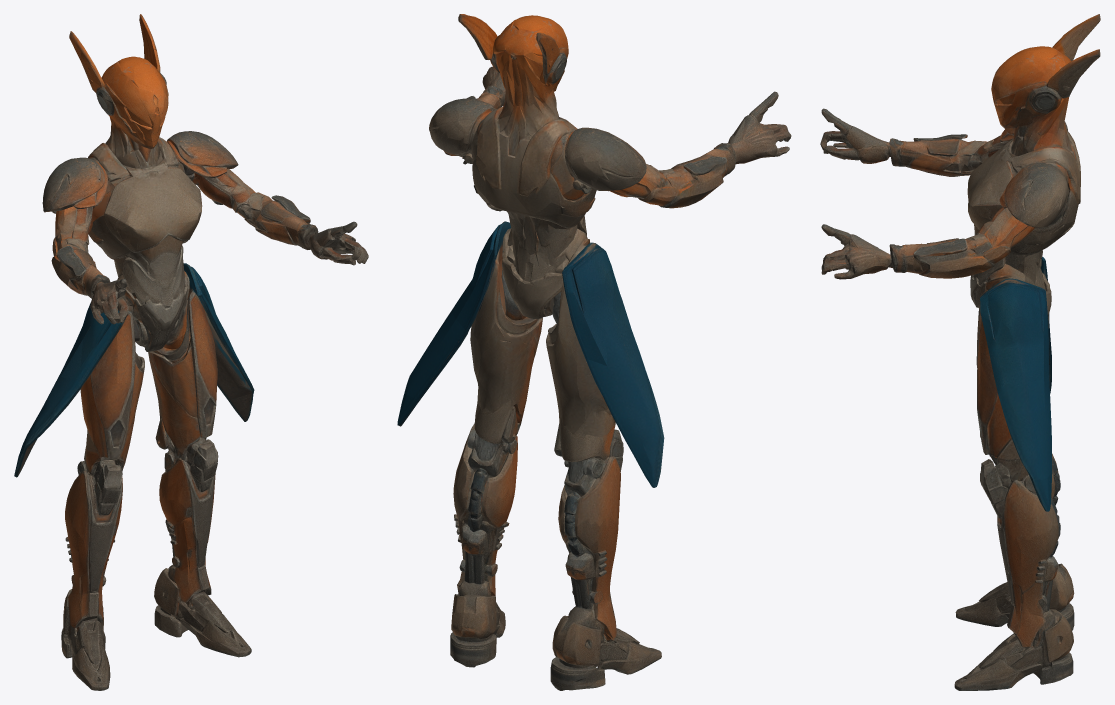
The model's file is chorus.glb.
3 renders of one model, left to right at view 1: azimuth 30°, elevation 25°; view 2: azimuth 150°, elevation 25°; view 3: azimuth 270°, elevation 25°, orthographic. The views are drawn at different scales.
Parts seen in each view (by area): view 1: mesh_node; view 2: mesh_node; view 3: mesh_node.
Boxes of the visible parts, x1=… form: mesh_node: x1=14, y1=14, x2=368, y2=690; mesh_node: x1=397, y1=14, x2=791, y2=690; mesh_node: x1=820, y1=14, x2=1100, y2=690.
Bounding box in the file's own units: 0.8865 × 1.9 × 0.7793.
Materials: 1 (1 with a texture image).
